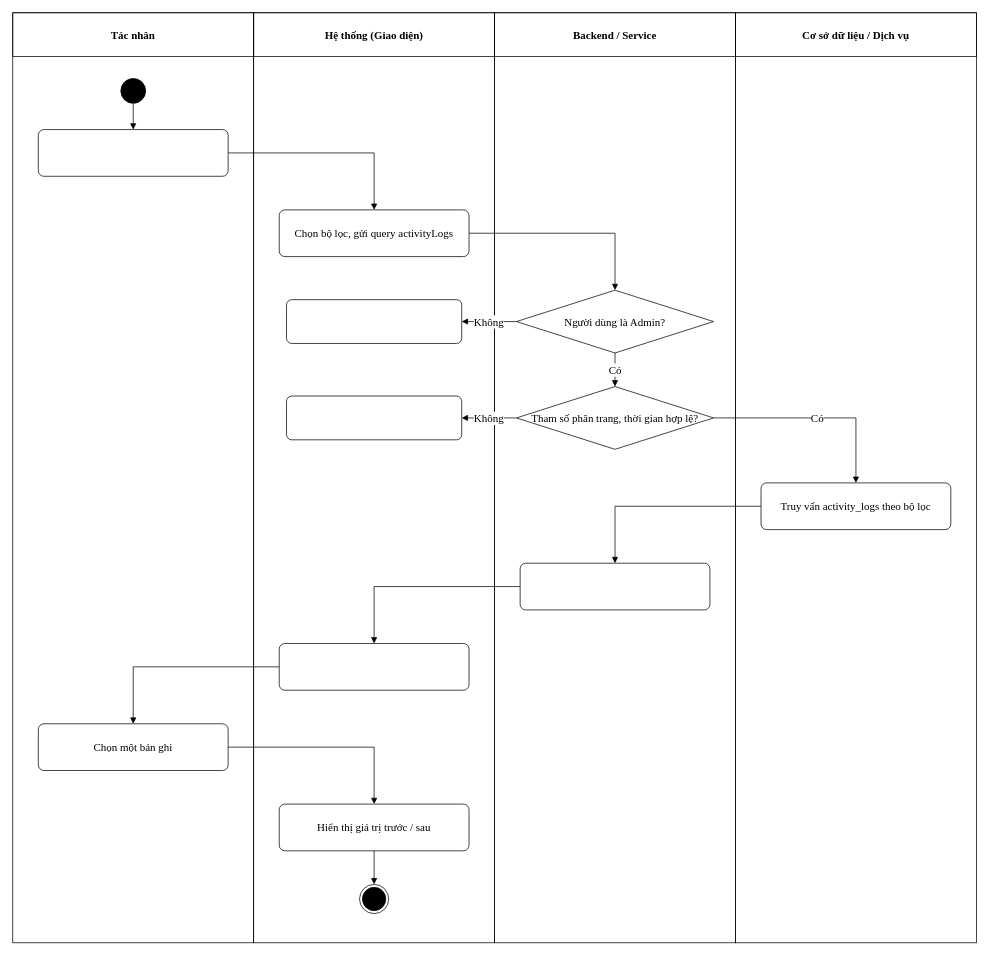
Some shapes in this 989 by 956 pixel diagram are drawn without their labels. The centre of each missing label's shape, as x and y in pixels:
"Báo 403 – không đủ quyền" belongs at point (374, 321).
"Báo tham số không hợp lệ" belongs at point (374, 417).
"Ghép tên người thực hiện, tổng số bản ghi" belongs at point (614, 586).
"Hiển thị danh sách nhật ký" belongs at point (373, 666).
"Mở trang Nhật ký hoạt động" belongs at point (133, 152).
